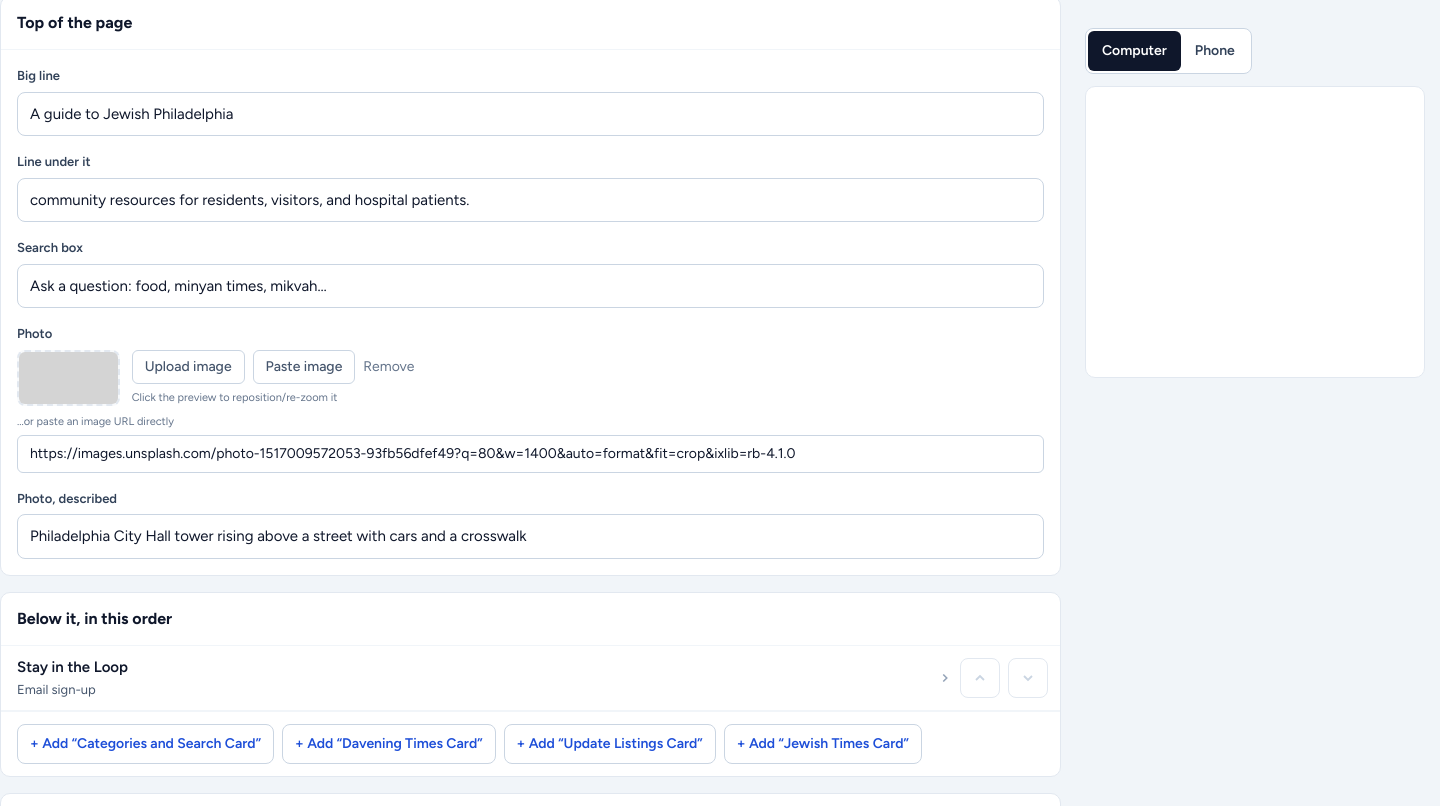
Test: SiteSettingsEditor — Home page › a card’s width is a change
Expected: the element named "Preview" is shown, x1=1085 y1=28 x2=1425 y2=378
Click the button "Stay in the Loop Email sign-up". click: (73, 666)
box: x1=1 y1=646 x2=952 y2=710
(page scrolled)
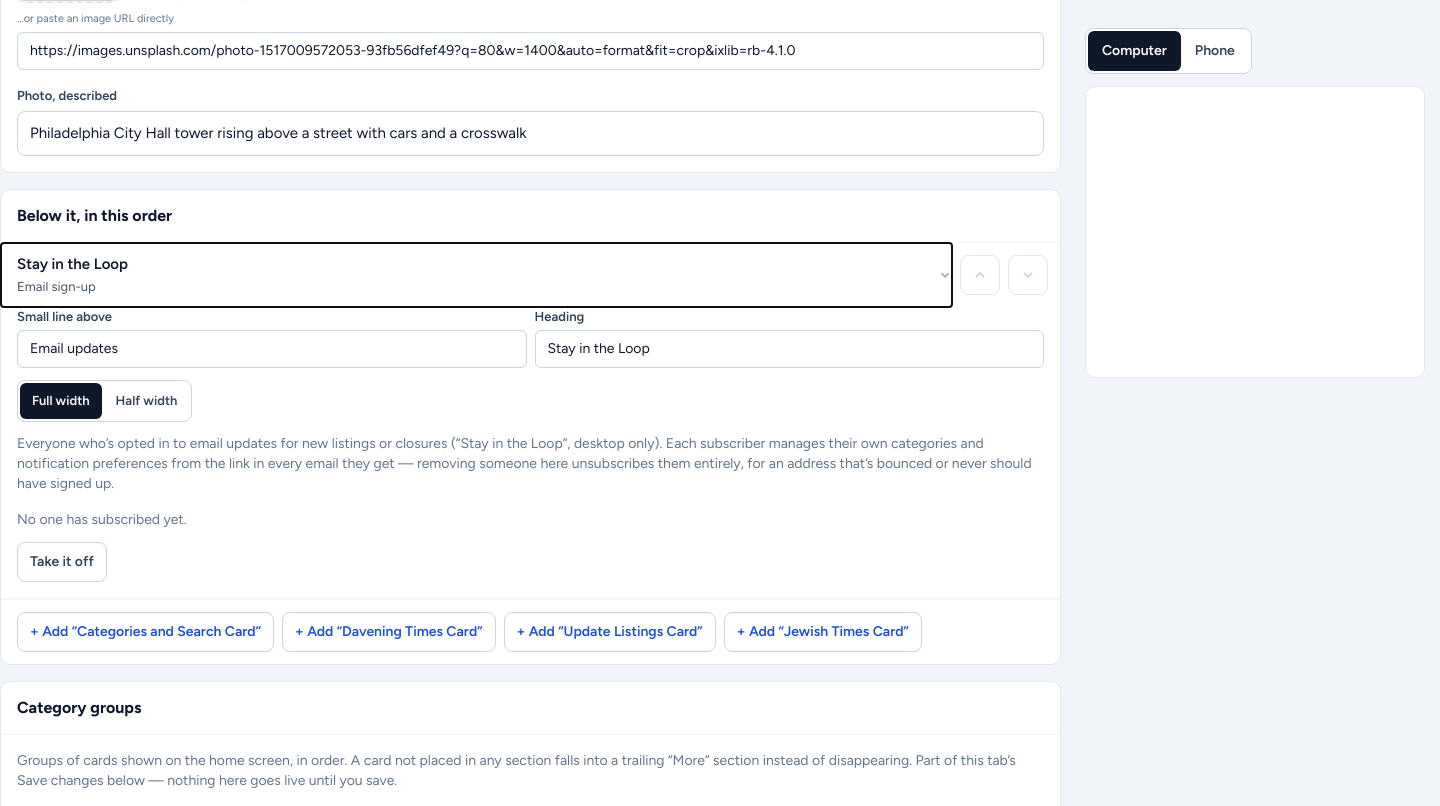
Click the button "Half width". click: (146, 401)
box: x1=104 y1=383 x2=189 y2=419
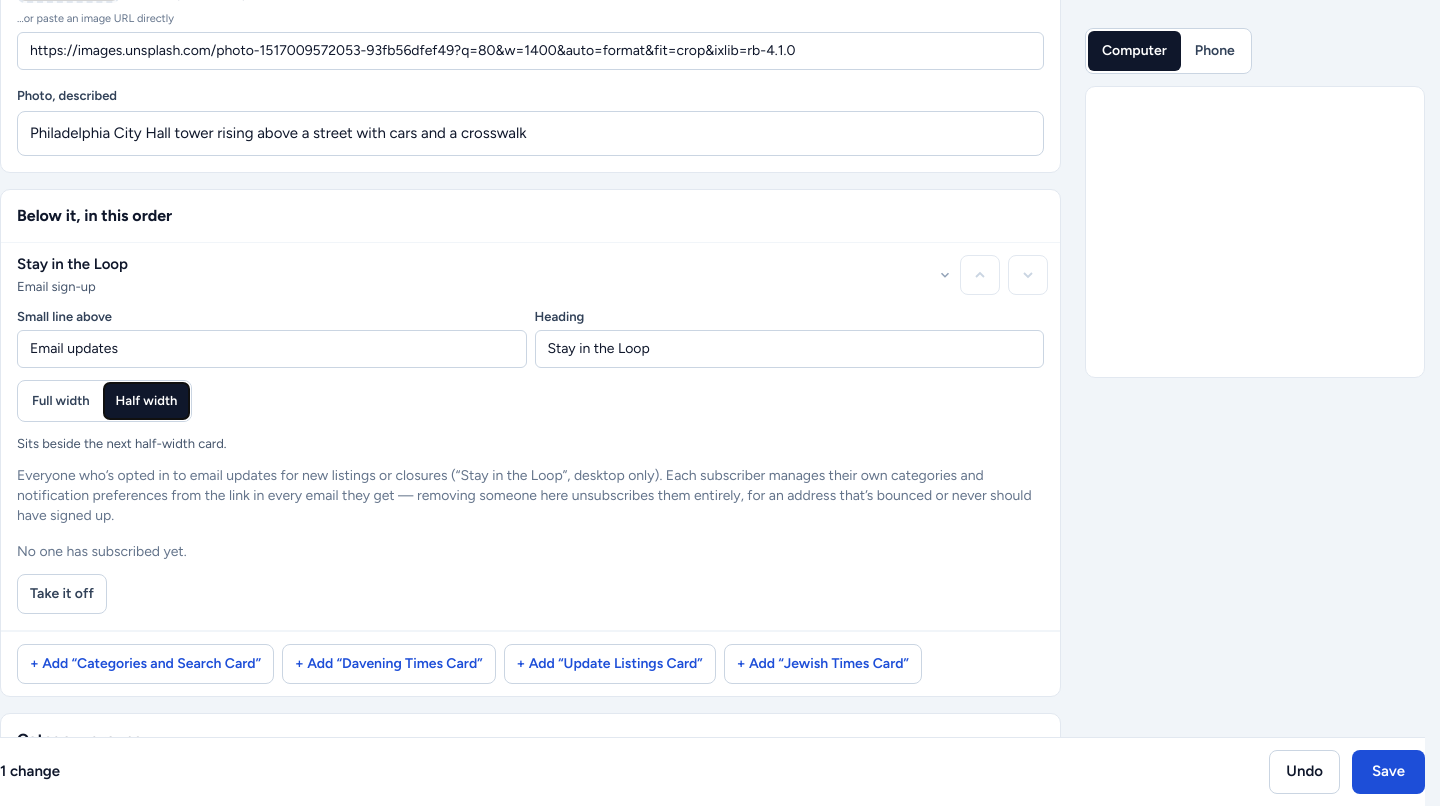
Expected: the text "1 change" is shown, x1=0 y1=763 x2=60 y2=781
